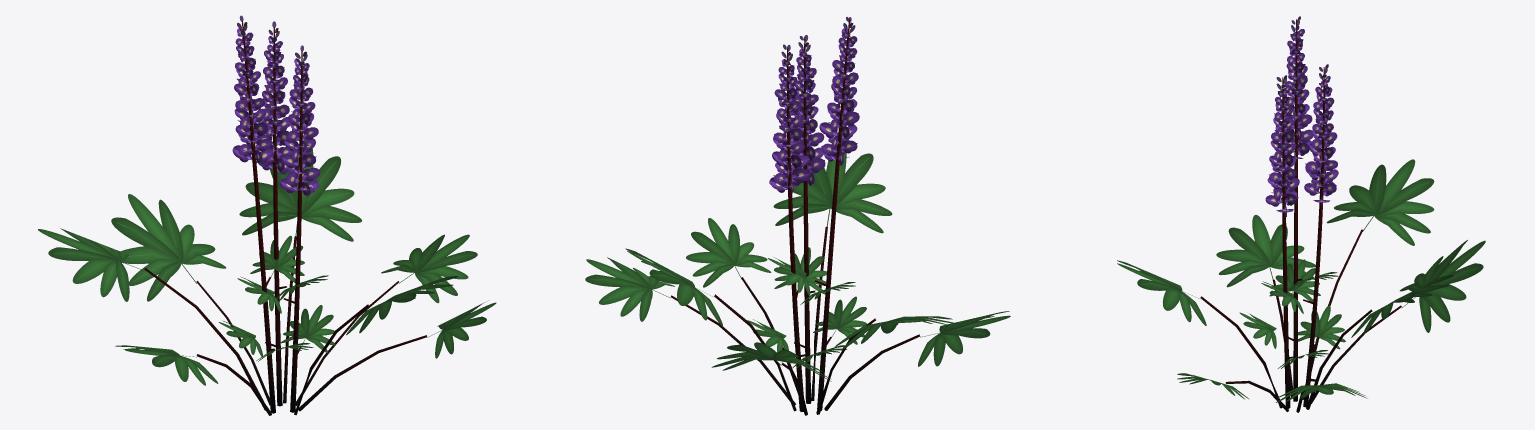
The model's file is lupine_v02_LOD1.glb.
The picture shows the model from 3 angles, left to right: view 1: azimuth 30°, elevation 25°; view 2: azimuth 150°, elevation 25°; view 3: azimuth 270°, elevation 25°; orthographic projection. The views are drawn at different scales.
Parts seen in each view (by area): view 1: lupine_v02_LOD1; view 2: lupine_v02_LOD1; view 3: lupine_v02_LOD1.
Boxes of the visible parts, x1,y1,x2,y2 form: lupine_v02_LOD1: (38,15,496,415); lupine_v02_LOD1: (585,17,1010,415); lupine_v02_LOD1: (1117,16,1485,412).
Size of the model in its own units: 0.971 by 0.8229 by 0.8836.
3 materials, 3 textured.
